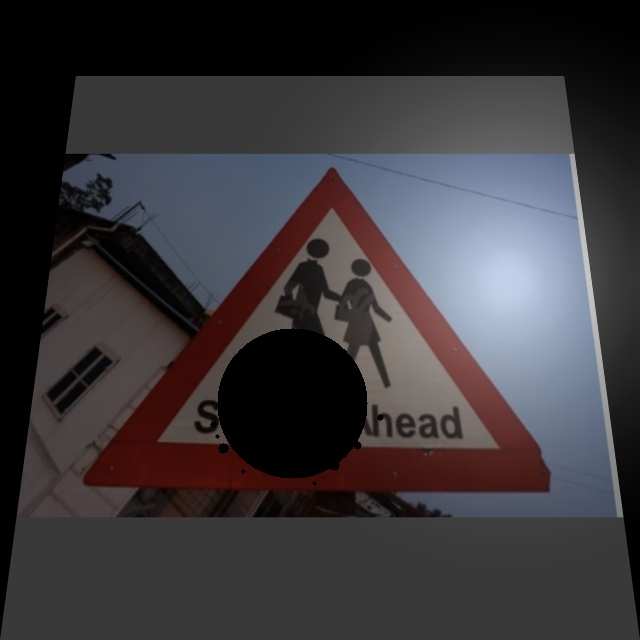School_Ahead: (134, 170, 532, 484)
